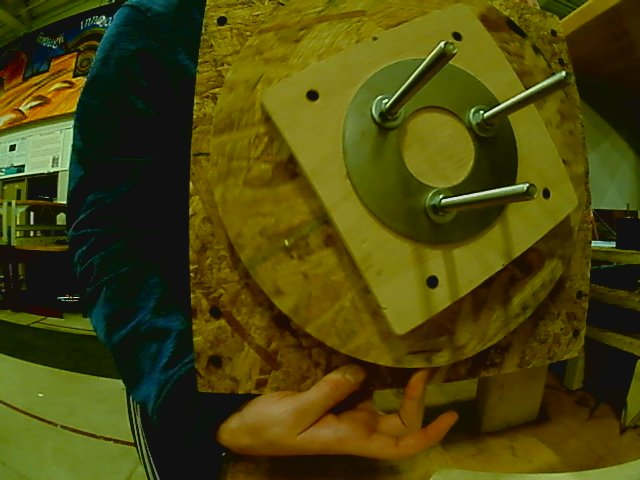bolt: (424, 185, 459, 226), (371, 91, 404, 132), (469, 102, 500, 141)
